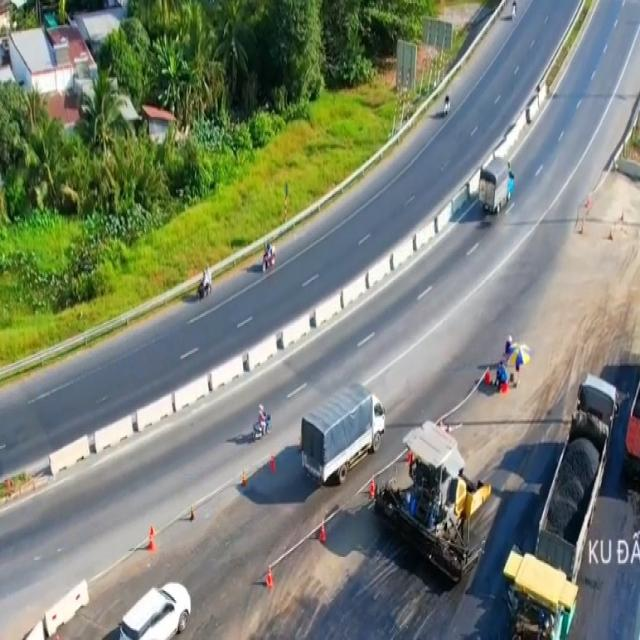car: (114, 581, 193, 640)
motorbike: (251, 400, 273, 446), (196, 266, 214, 302), (260, 237, 276, 276)
truck: (300, 380, 386, 487), (480, 156, 514, 214)
